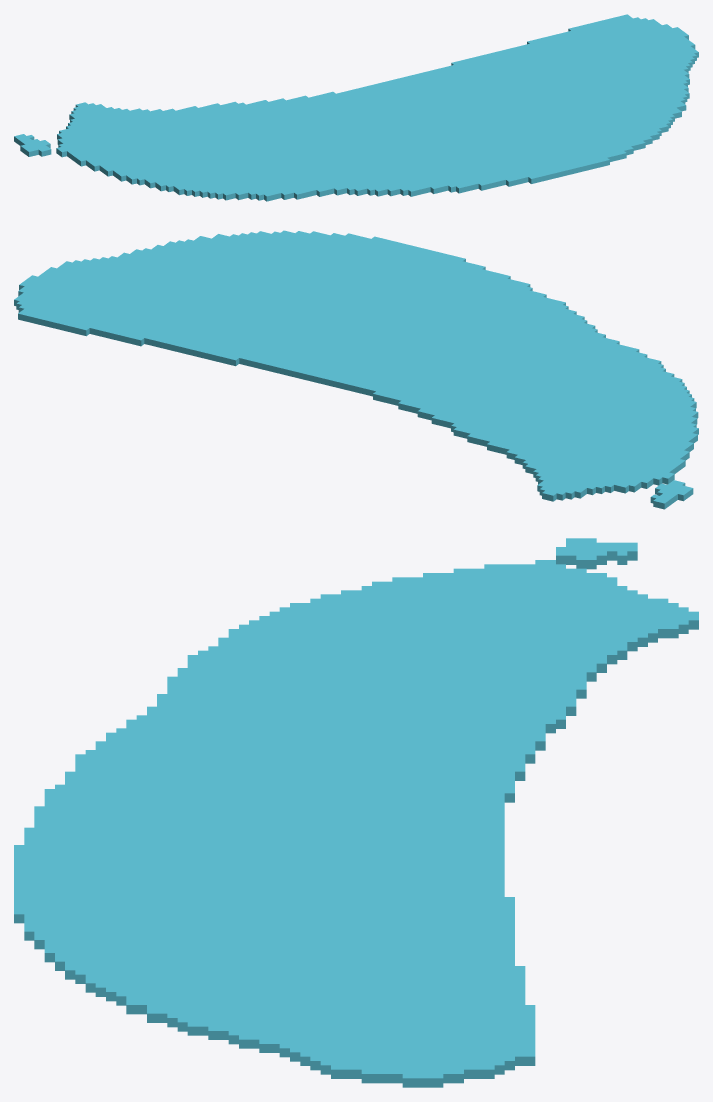
The model's file is IceContinent.obj.
3 renders of one model, top to bottom at view 1: azimuth 30°, elevation 25°; view 2: azimuth 150°, elevation 25°; view 3: azimuth 270°, elevation 25°, orthographic. The views are drawn at different scales.
Bounding box in the file's own units: 12.5 × 0.1 × 6.7.
1 material, 1 textured.
